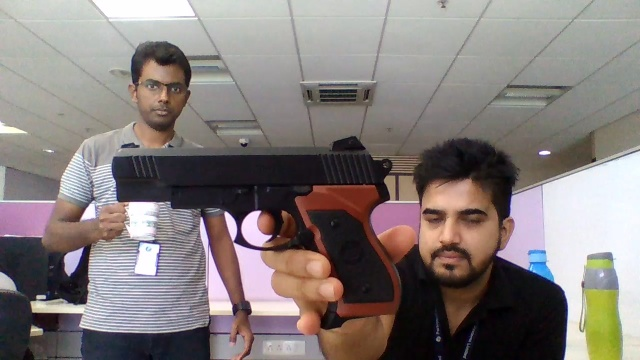gun: (111, 142, 386, 243)
